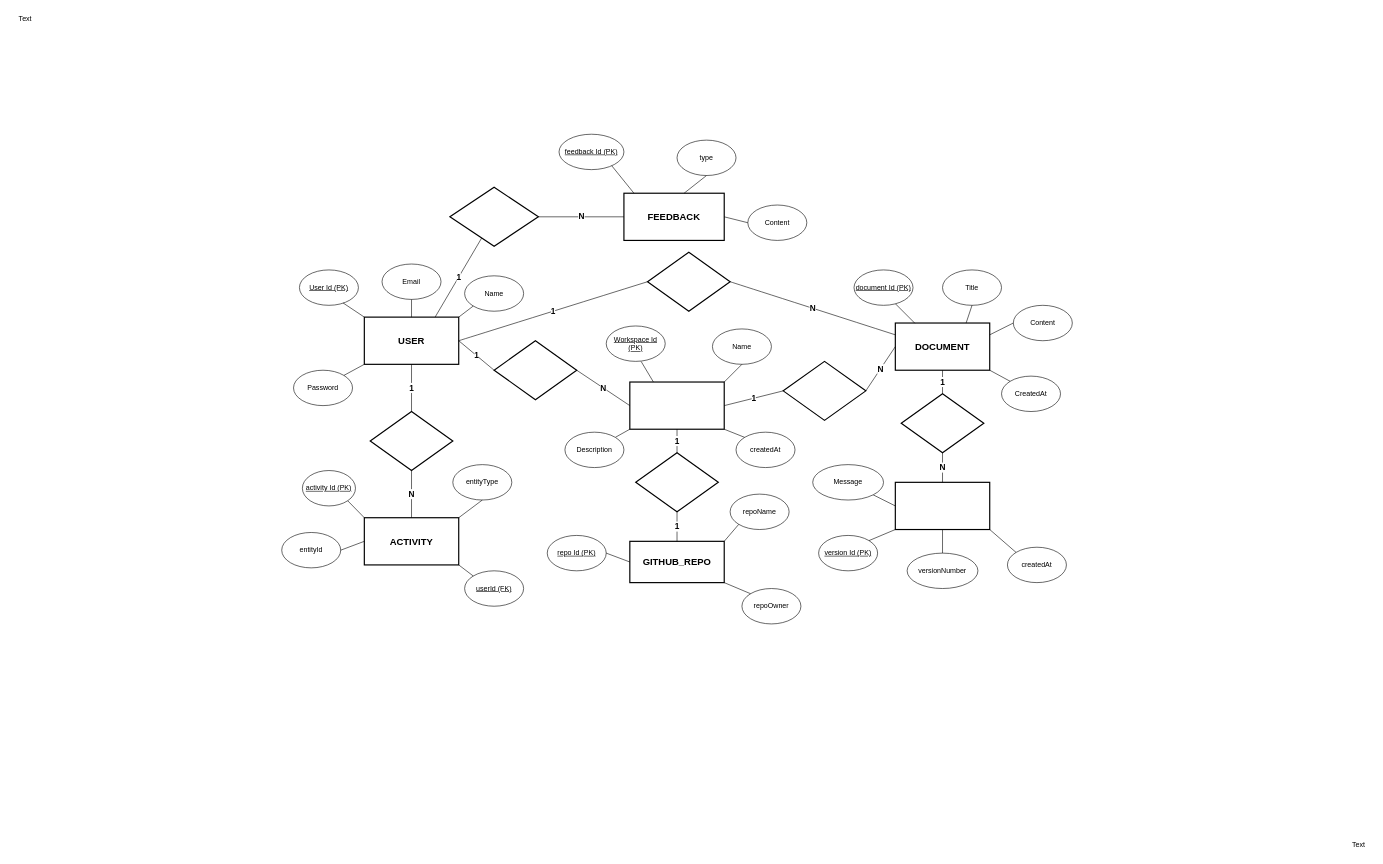
Some shapes in this 1383 by 864 pixel diagram are drawn without their labels. Each missing label, with the centre of its shape:
"CONTAINS" belongs at pixel 824 390.
"CREATES" belongs at pixel 688 281.
"MEMBER_OF" belongs at pixel 535 370.
"PERFORMS" belongs at pixel 411 441.
"SUBMITS" belongs at pixel 494 216.
"SYNC_WITH" belongs at pixel 677 482.
"TRACKS VERSION" belongs at pixel 942 423.
"VERSION" belongs at pixel 942 505.
"WORKSPACE" belongs at pixel 677 405.
